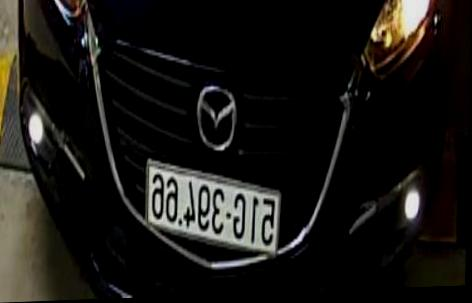License_Plate: (139, 163, 287, 260)
